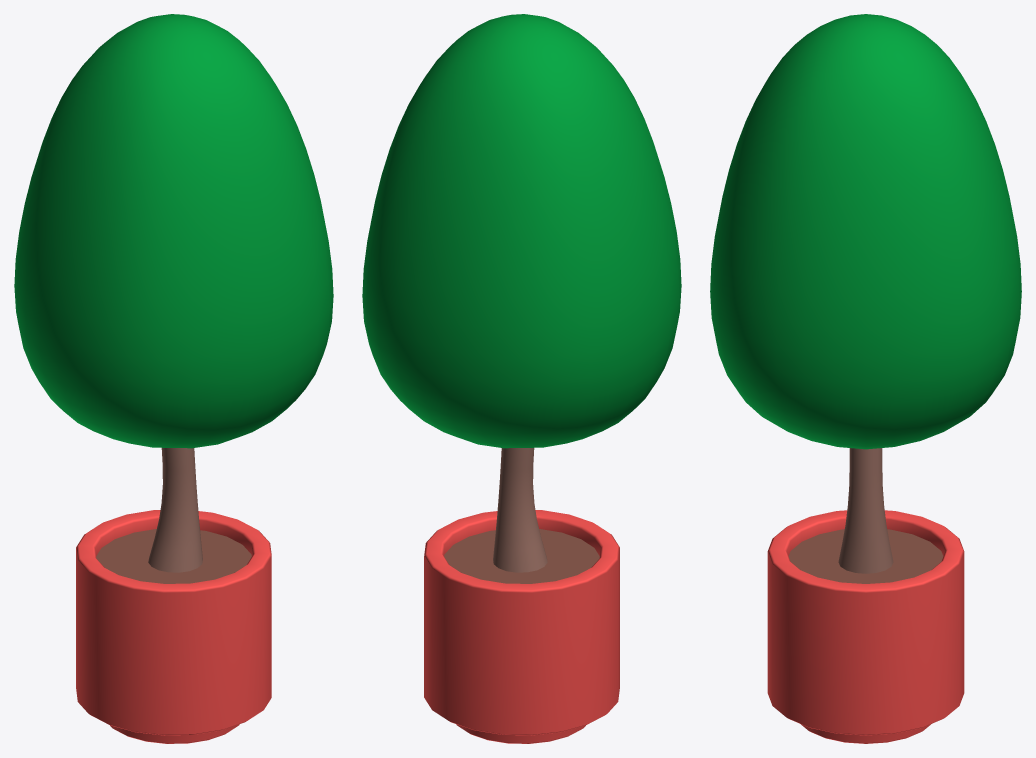
File: Public_12_Tree_1.glb
3 renders of one model, left to right at view 1: azimuth 30°, elevation 25°; view 2: azimuth 150°, elevation 25°; view 3: azimuth 270°, elevation 25°, orthographic.
Parts seen in each view (by area): view 1: Public_12_Tree_1; view 2: Public_12_Tree_1; view 3: Public_12_Tree_1.
Part boxes in pixels (x1,y1,x2,y2): Public_12_Tree_1: [14, 14, 333, 743]; Public_12_Tree_1: [362, 14, 681, 743]; Public_12_Tree_1: [710, 14, 1021, 743].
Size of the model in its own units: 1.27 by 3.11 by 1.27.
1 material, 1 textured.
